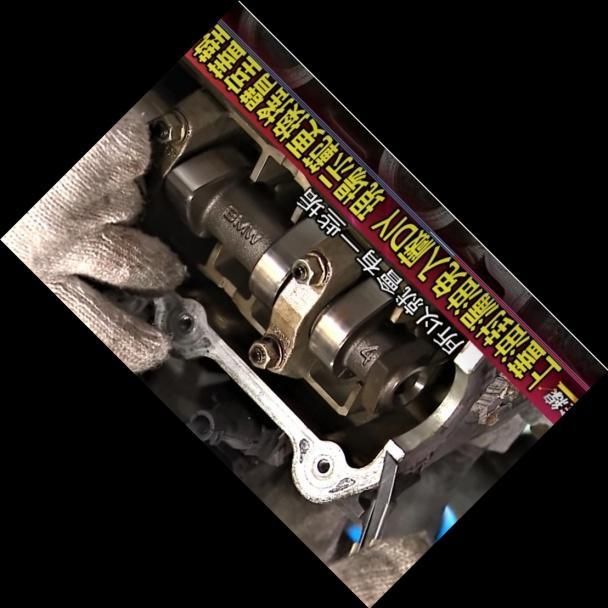hole: (172, 308, 197, 334), (311, 453, 334, 476)
